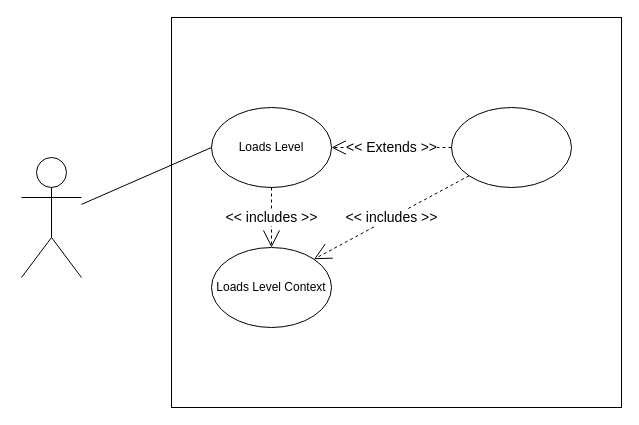
This 639x425 diagram has some shape labels left out. Each missing label, with the centre of its shape:
Level Loader: the point at 51,217
Play level theme: the point at 511,147
